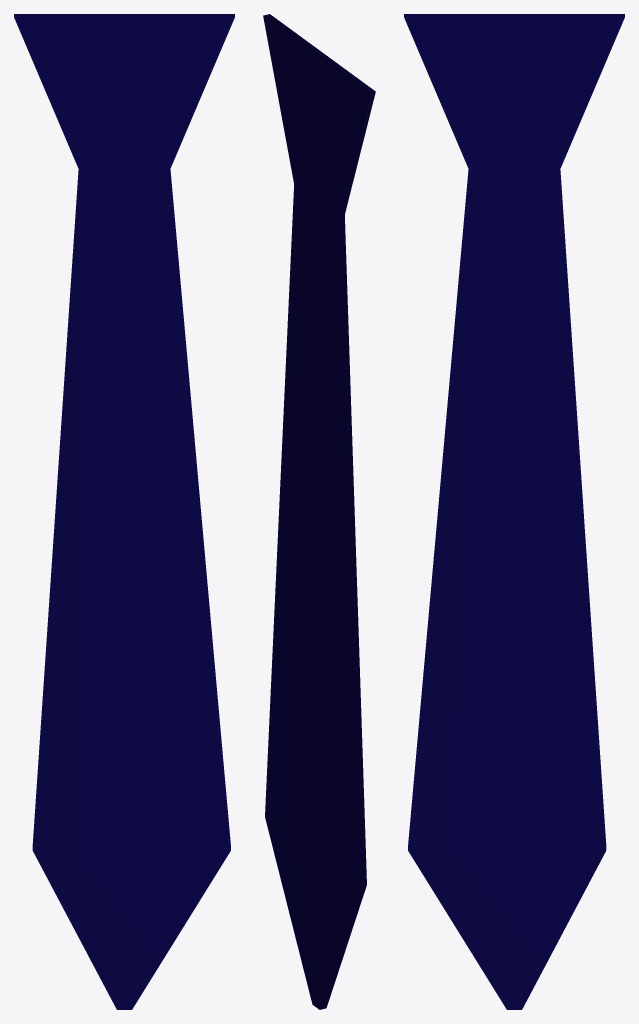
File: ugg_officeworker_tie.fbx
The picture shows the model from 3 angles, left to right: view 1: azimuth 90°, elevation 25°; view 2: azimuth 210°, elevation 25°; view 3: azimuth 270°, elevation 25°; orthographic projection. The views are drawn at different scales.
Parts seen in each view (by area): view 1: tie; view 2: tie; view 3: tie.
Boxes of the visible parts, bbox=[...] form: tie: bbox=[14, 14, 234, 1009]; tie: bbox=[263, 14, 375, 1009]; tie: bbox=[404, 14, 624, 1009].
Bounding box in the file's own units: 0.559 × 74.74 × 15.07.
